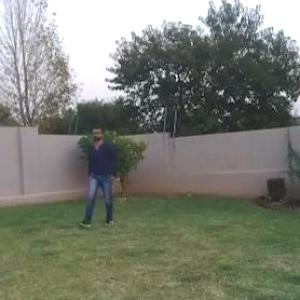follow: (84, 122, 120, 233)
